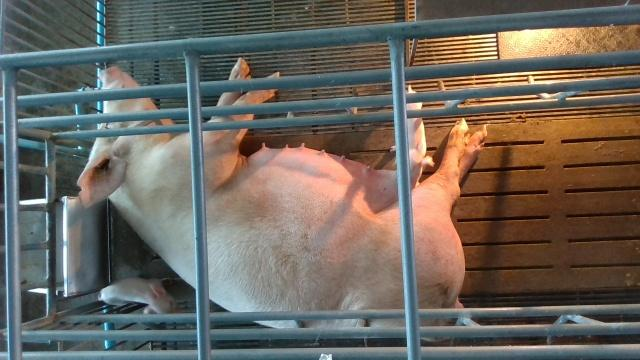piglet: (405, 85, 435, 188), (98, 277, 178, 314)
sow-sleep-lactate: (77, 56, 486, 342)
